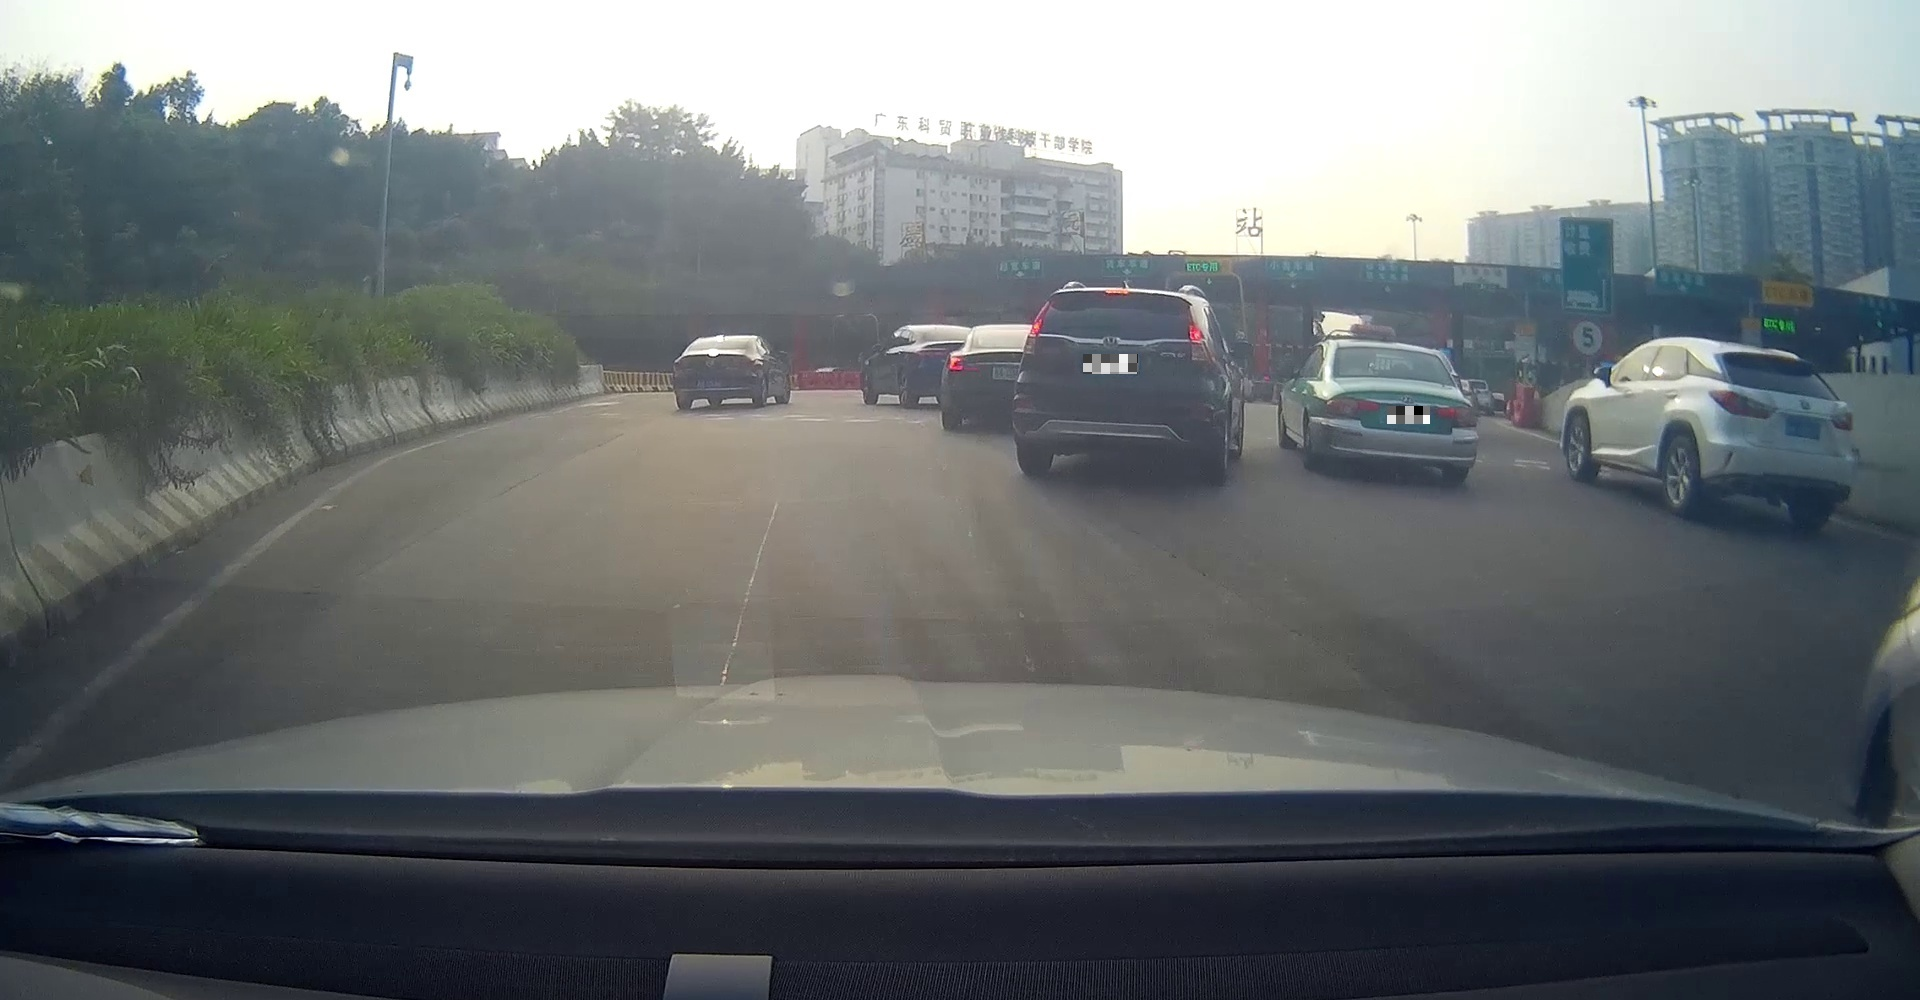L_light: (1708, 390, 1778, 419), (1326, 396, 1380, 416), (1021, 316, 1043, 355)
R_light: (1436, 404, 1474, 426), (1189, 324, 1209, 360), (1832, 410, 1854, 430)
T_light: (1103, 289, 1128, 294), (1765, 354, 1787, 359), (1377, 348, 1399, 352)
day-brake: (1010, 284, 1222, 471)
day-no: (1702, 346, 1857, 527), (1319, 341, 1478, 486)
plate_1: (1083, 354, 1138, 374)
plate_2: (1387, 406, 1430, 424)
